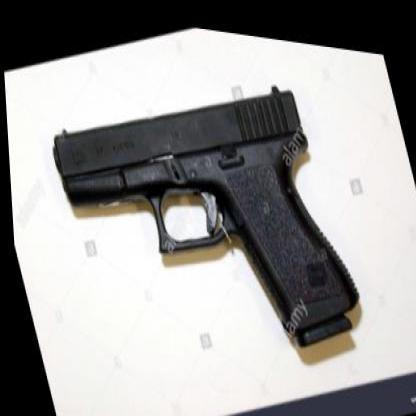pistol: (39, 32, 369, 413)
